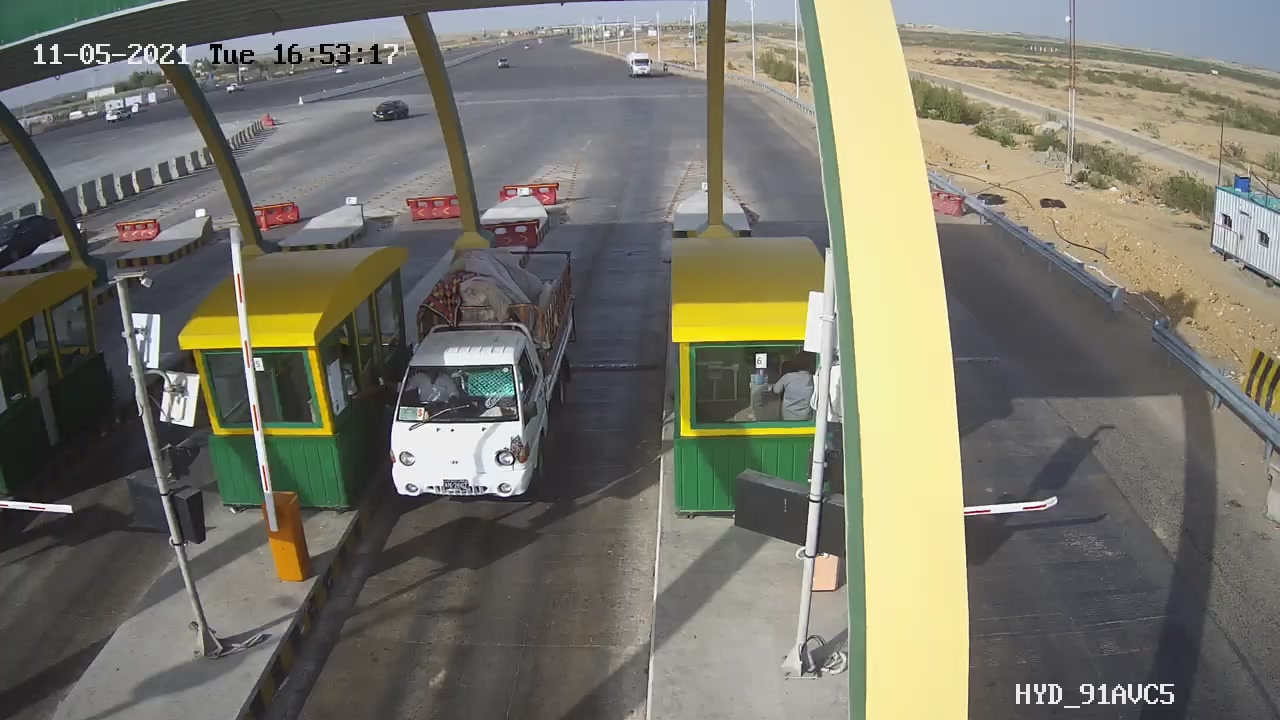F2: (362, 233, 596, 524)
